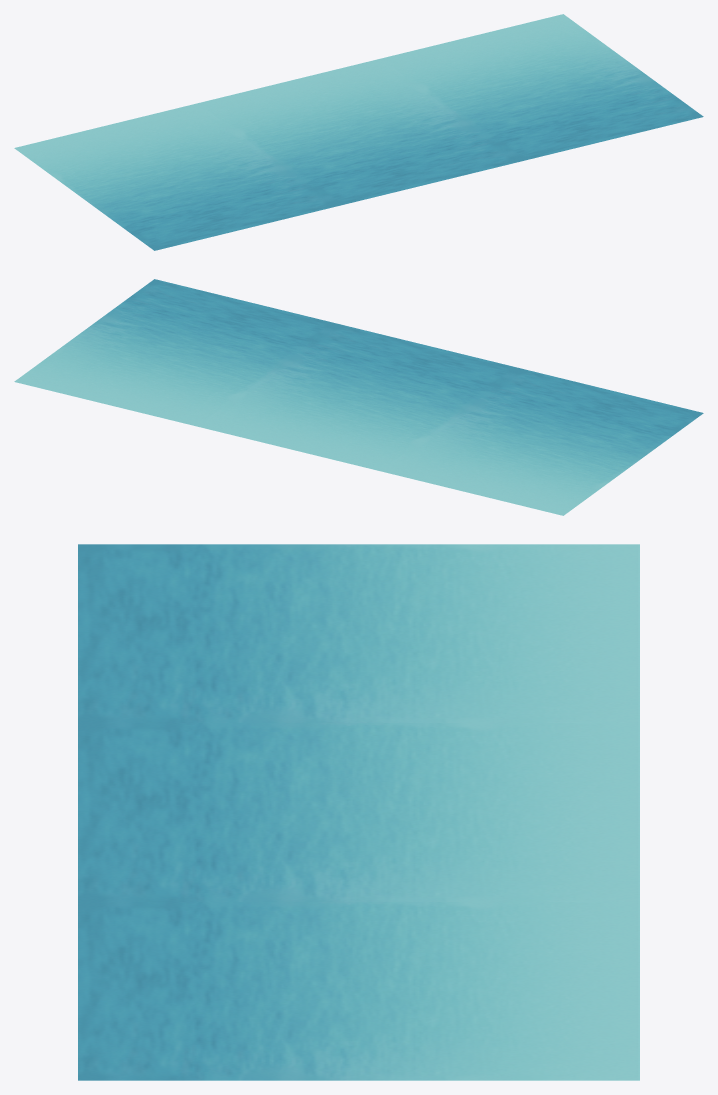
The model's file is haiyang.FBX.
3 views of the same model, one above another, from view 1: azimuth 30°, elevation 25°; view 2: azimuth 150°, elevation 25°; view 3: azimuth 270°, elevation 25° (orthographic). The views are drawn at different scales.
Parts seen in each view (by area): view 1: haiyang; view 2: haiyang; view 3: haiyang.
Boxes of the visible parts, x1,y1,x2,y2 form: haiyang: [14, 14, 703, 250]; haiyang: [14, 279, 703, 515]; haiyang: [78, 544, 639, 1080].
Size of the model in its own units: 3435 by 0.000339 by 1522.
